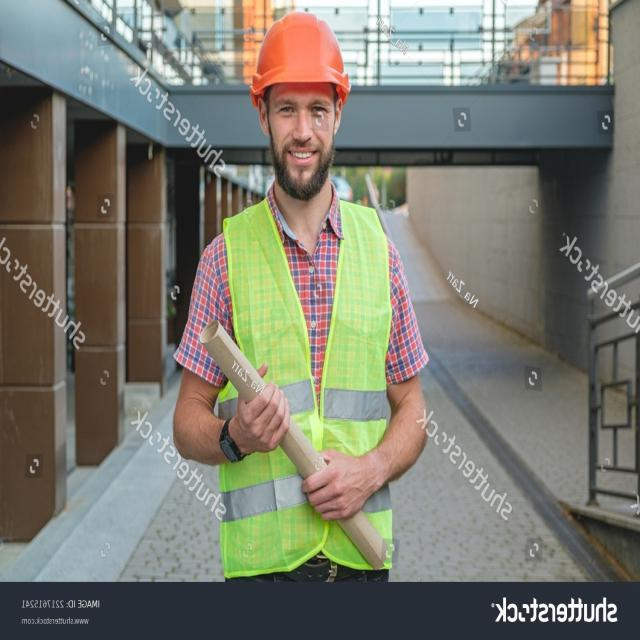safetyhelmet: (247, 17, 353, 180)
